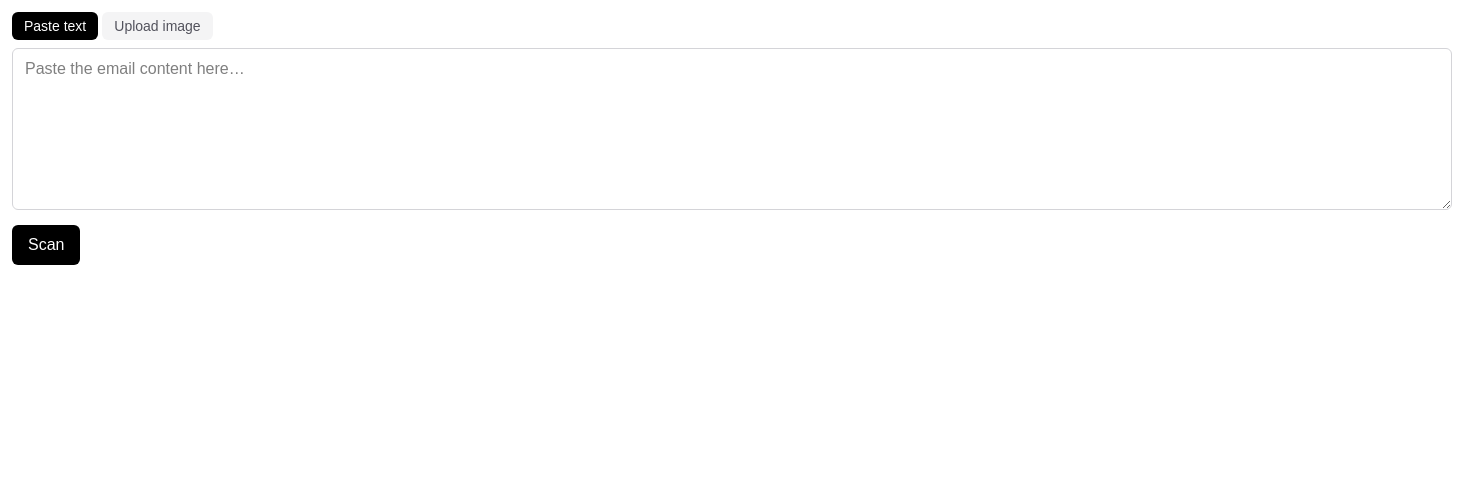
MessageScanForm (email) › submits the entered text and renders the result
Type "test message" into the text box at (732, 129), box [12,48,1452,210]
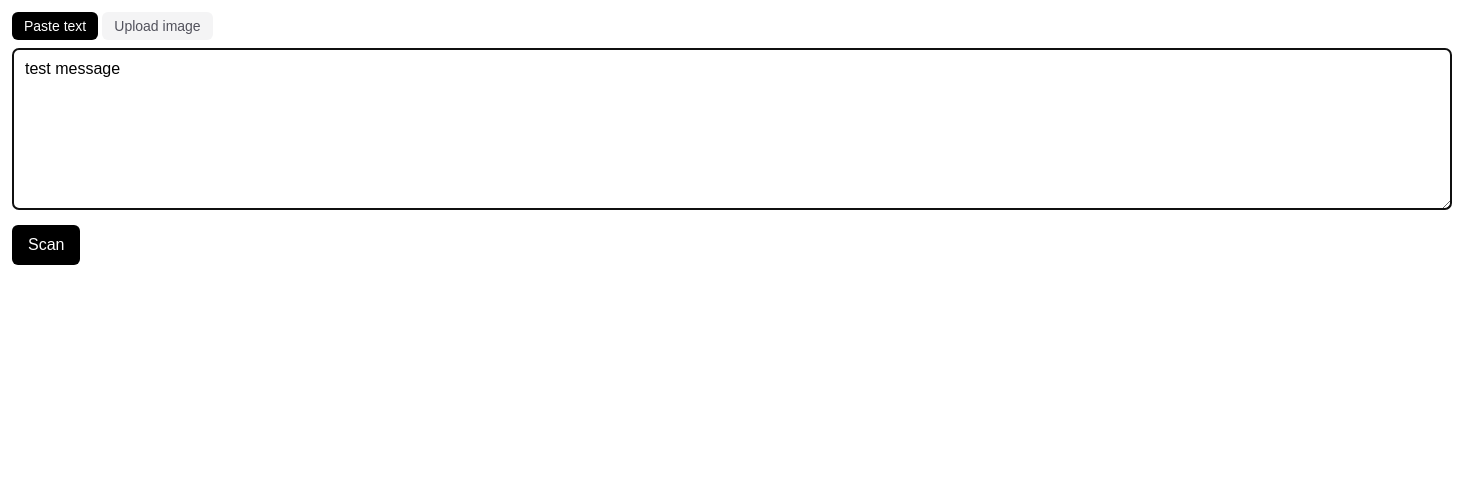
Click the button "Scan" at (46, 245), box [12,225,80,265]
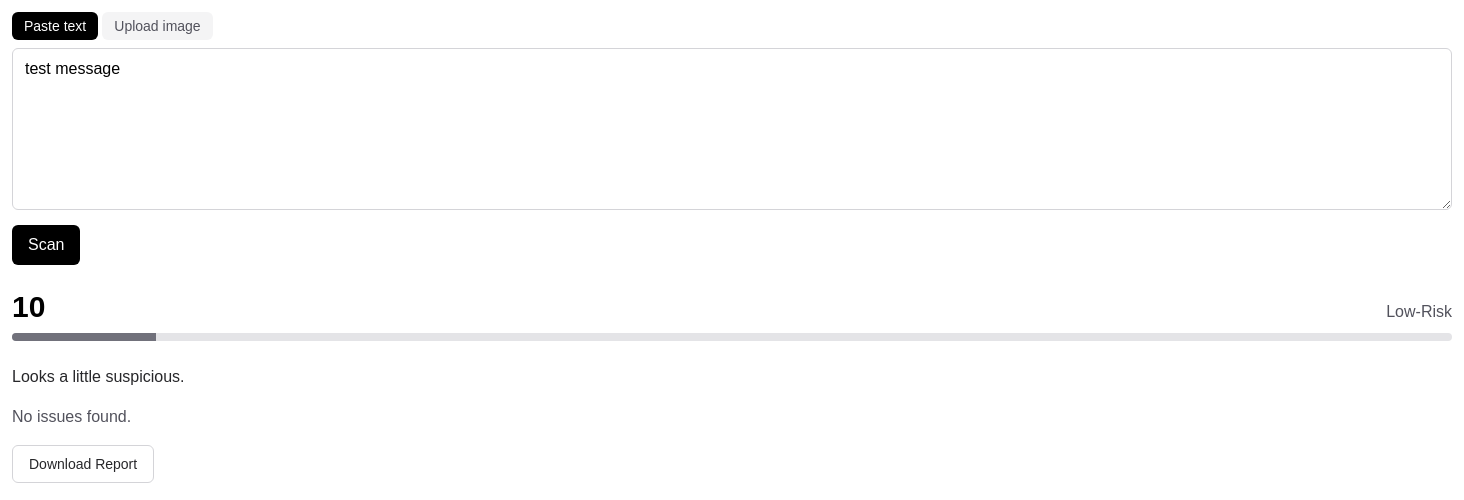
Check: the text "Looks a little suspicious." is shown, box [12,368,184,385]
